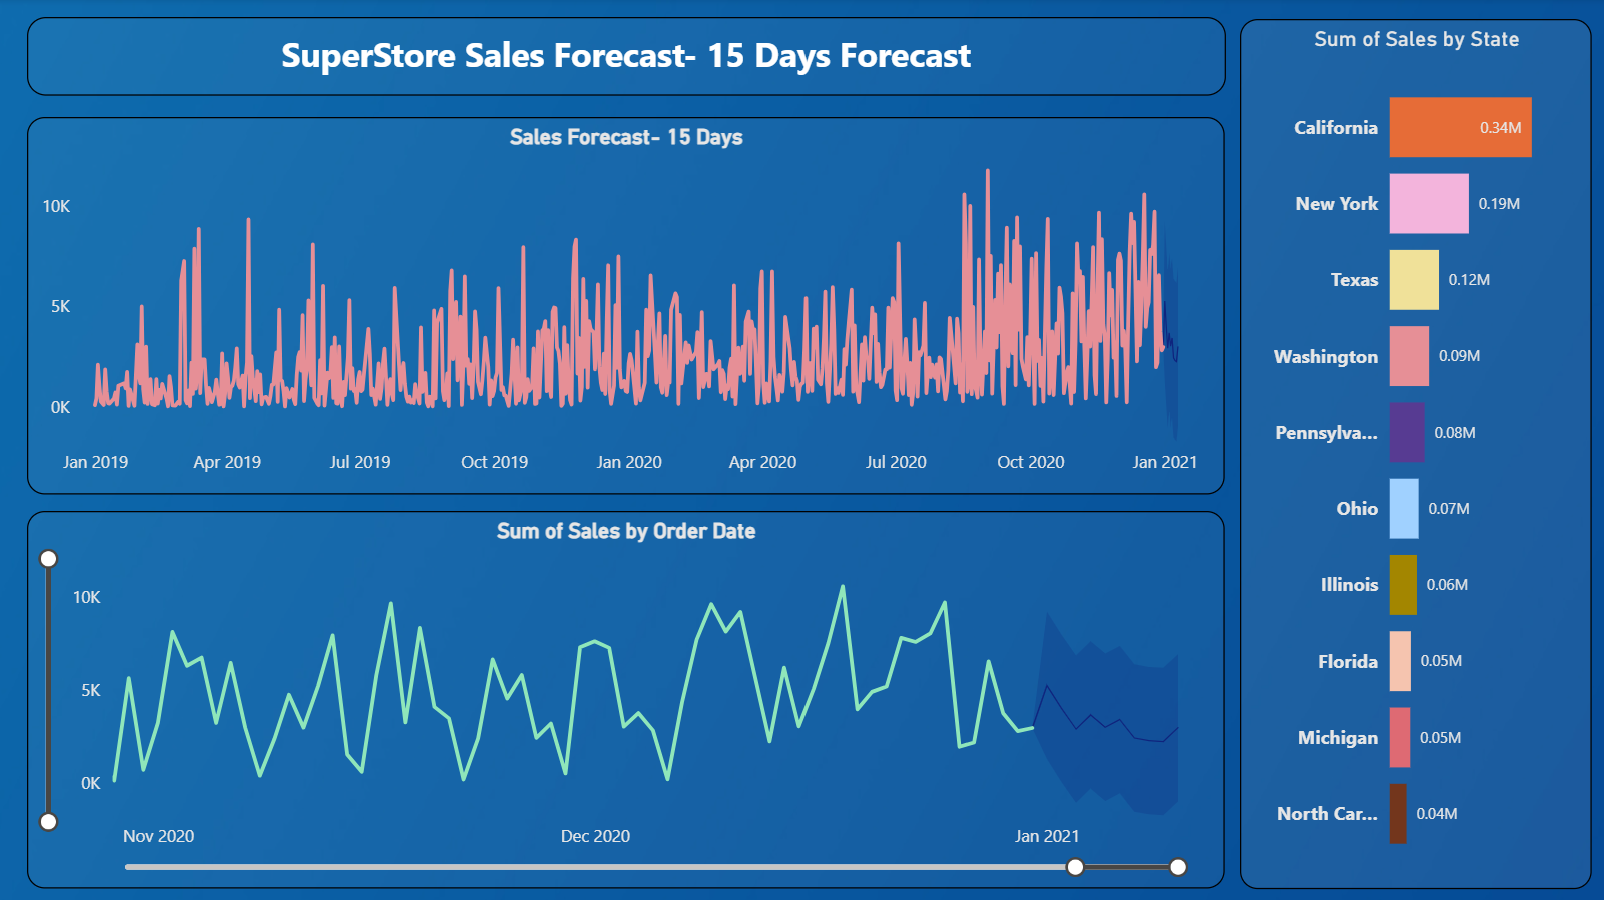

Layout of this report page (visuals, bound fields, positions):
{"tool":"powerbi","page":{"name":"Page 2","canvas":[1280,720],"ordinal":1},"visuals":[{"type":"lineChart","fields":{"Y":["Sum(SuperStore_Sales_Dataset.Sales)"],"Category":["SuperStore_Sales_Dataset.Order Date"]},"box":[23.7,408.5,950.8,300],"z":0},{"type":"lineChart","title":"Sales Forecast- 15 Days","fields":{"Y":["Sum(SuperStore_Sales_Dataset.Sales)"],"Category":["SuperStore_Sales_Dataset.Order Date"]},"box":[23.7,94.9,950.8,300],"z":1000},{"type":"textbox","box":[23.2,16.1,951.8,62.5],"z":2000},{"type":"barChart","fields":{"Category":["SuperStore_Sales_Dataset.State"],"Y":["Sum(SuperStore_Sales_Dataset.Sales)"]},"box":[986.4,16.9,279.7,691.5],"z":3000}]}

Visuals, with their boxes in screenshot pixels (x1, y1, x2, y2), scaled from the page's 1280x720 canvas onto the 1604x900 screenshot:
lineChart - Sum(SuperStore_Sales_Dataset.Sales) x SuperStore_Sales_Dataset.Order Date: (left=30, top=511, right=1221, bottom=886)
"Sales Forecast- 15 Days" lineChart: (left=30, top=119, right=1221, bottom=494)
textbox: (left=29, top=20, right=1222, bottom=98)
barChart - SuperStore_Sales_Dataset.State x Sum(SuperStore_Sales_Dataset.Sales): (left=1236, top=21, right=1587, bottom=886)
